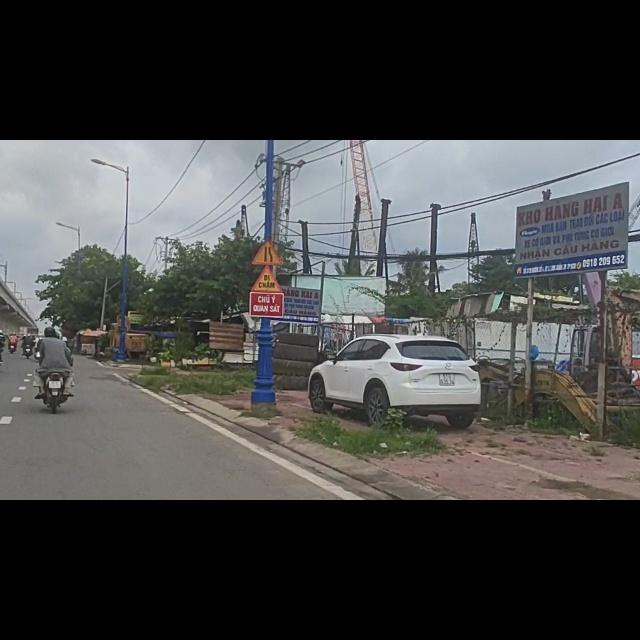bien_nguy_hiem: (251, 223, 285, 271), (251, 175, 283, 222)
